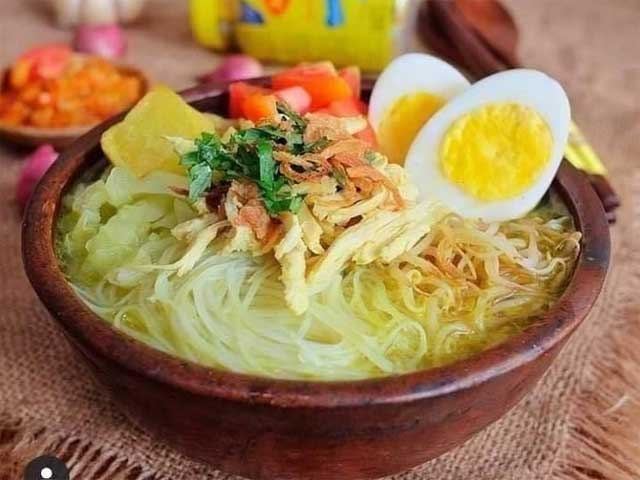soto: (40, 50, 586, 411)
